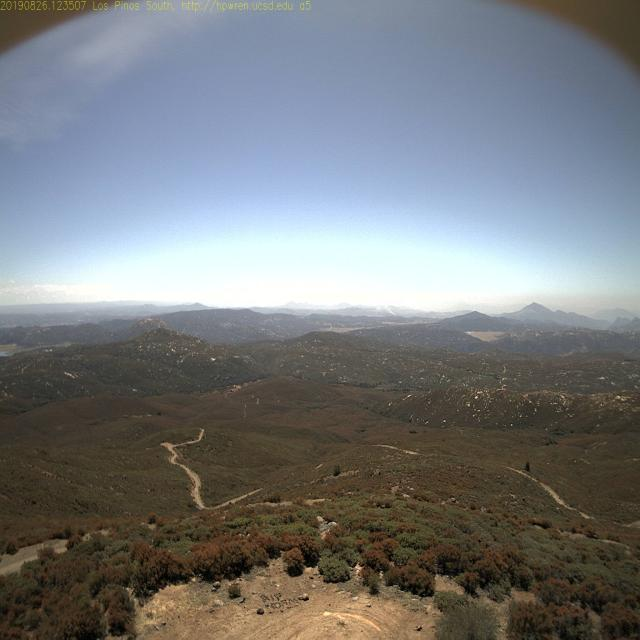smoke: (383, 303, 396, 317)
